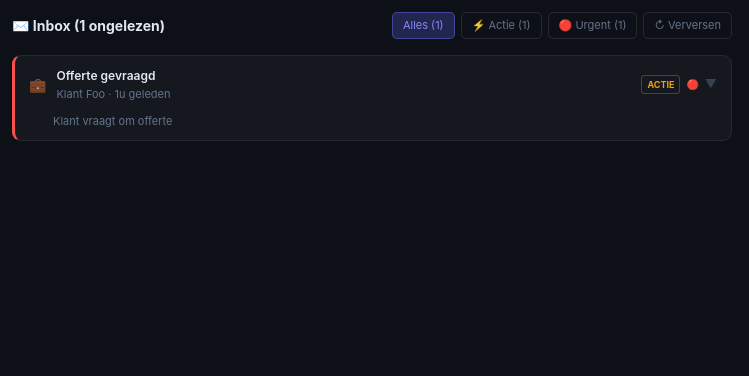
MailTab › shows "Taak aangemaakt" confirmation after task creation
What coordinates should you click on to do the following:
click the text "Offerte gevraagd"
I would click on:
 (106, 75)
Its box is [56,68,155,82].
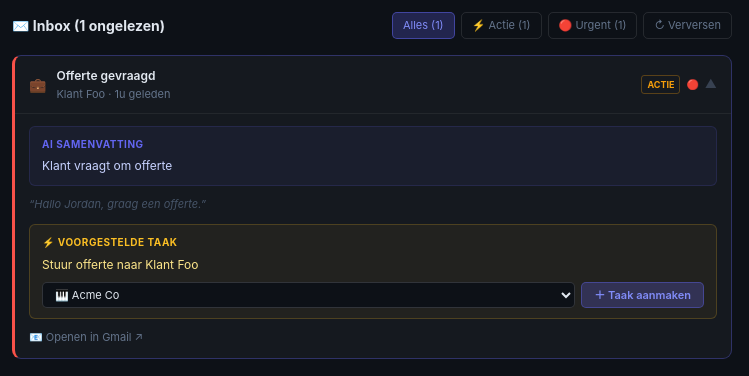
Check: the button "＋ Taak aanmaken" is shown
What coordinates should you click on to do the following:
click the button "＋ Taak aanmaken"
I would click on:
 (643, 295)
Its box is [581,282,704,308].
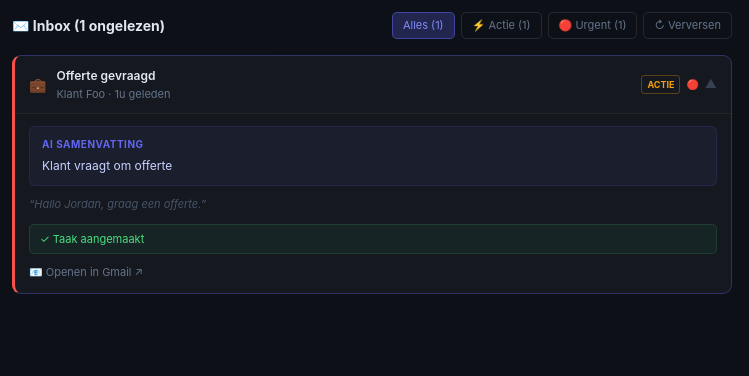
Check: the text "✓ Taak aangemaakt" is shown, box [29,224,717,254]
